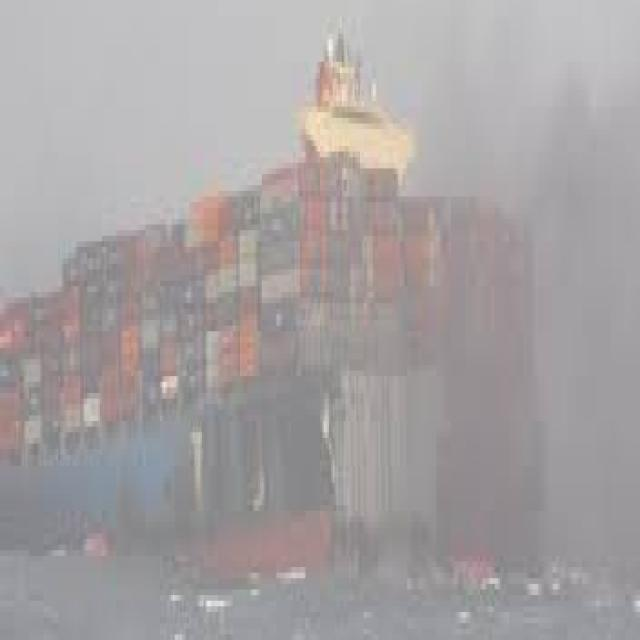cargoship: (0, 22, 542, 562)
